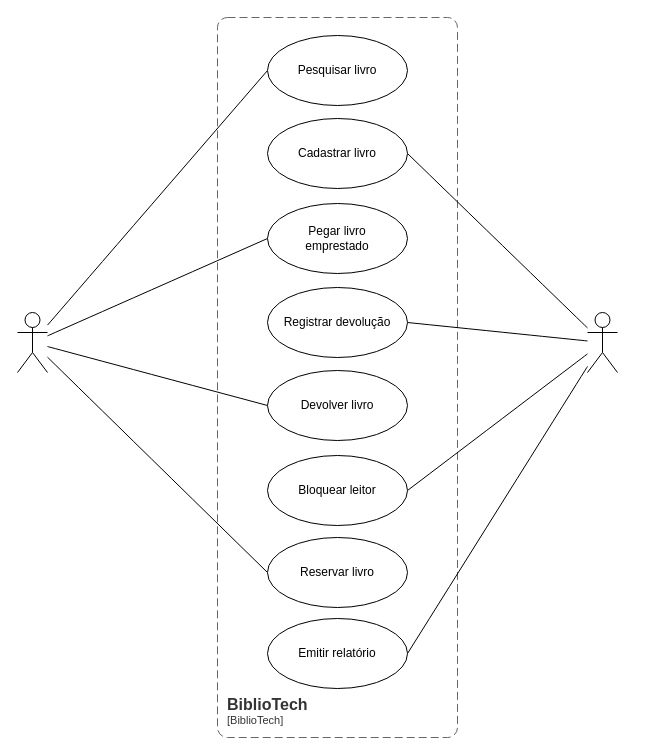
The diagram is 652 pixels wide and 755 high, and some of its shapes have lost their labels. Here are the shapes that lost their labels. From the top down, the centre of each, then its label:
point 32,342: Leitor
point 602,342: Bibliotecário
